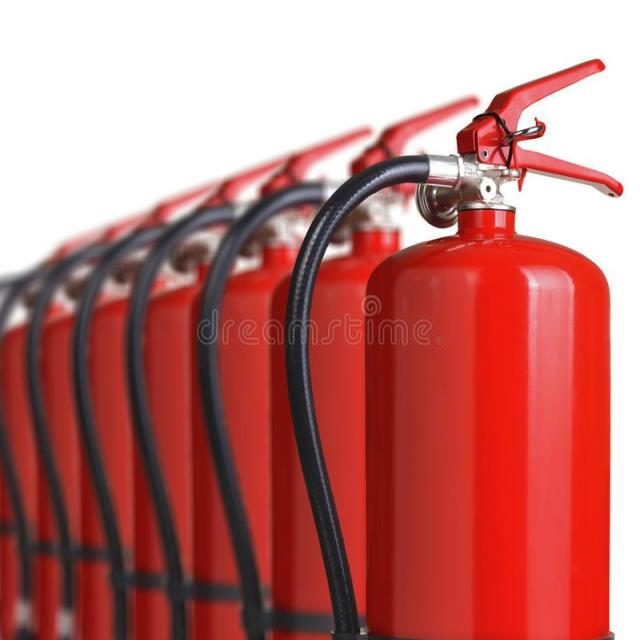fire_extinguisher: (284, 51, 628, 639), (195, 88, 489, 639)
